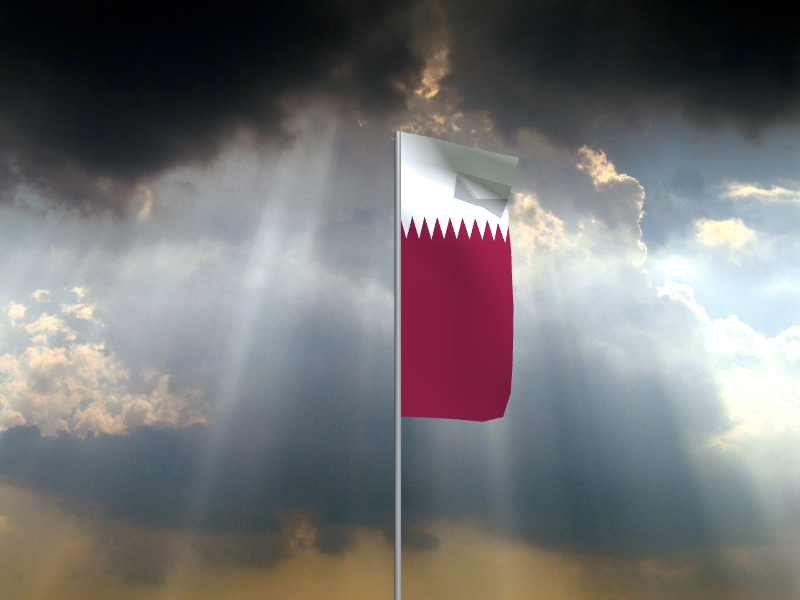qa: (402, 133, 521, 423)
